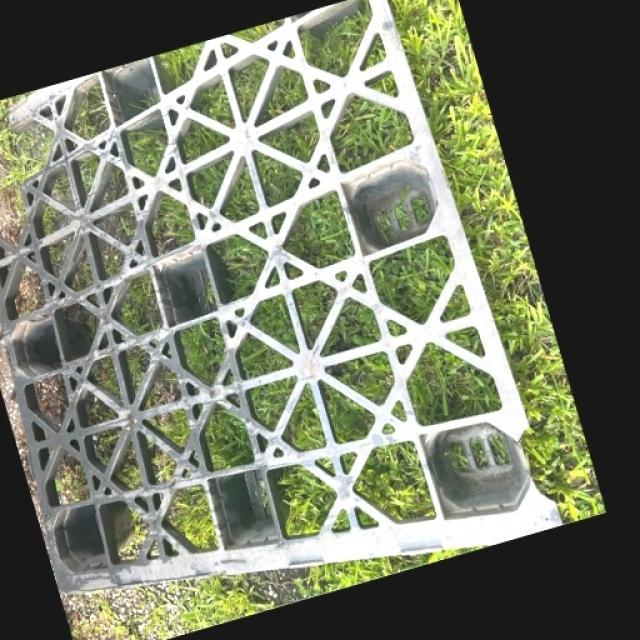non-igps: (0, 0, 570, 601)
